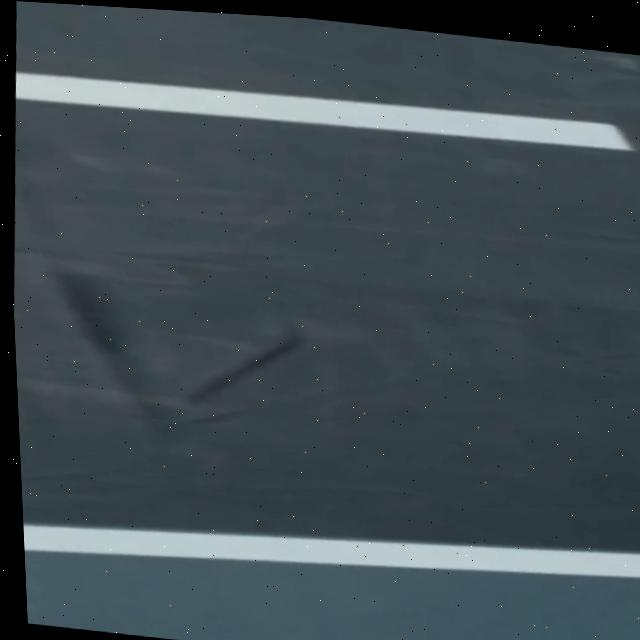center: (16, 72, 633, 150)
left: (23, 524, 640, 578)
